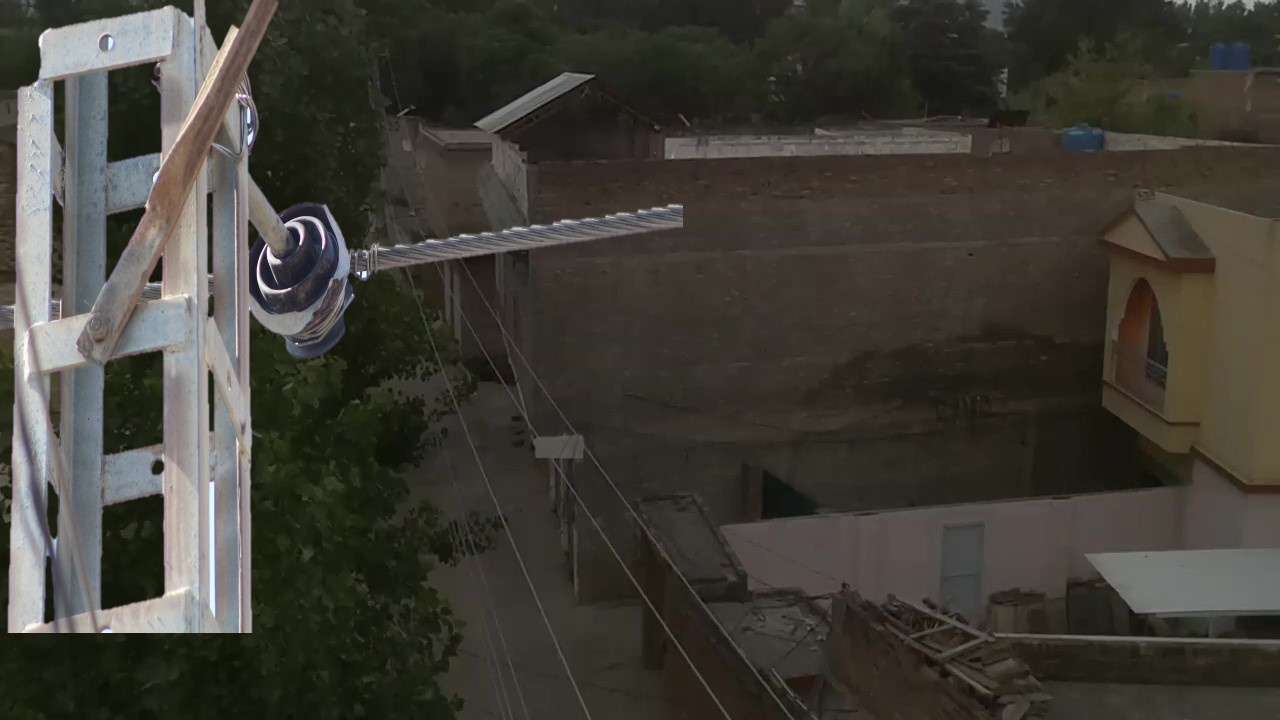defect_pin: (246, 188, 372, 372)
